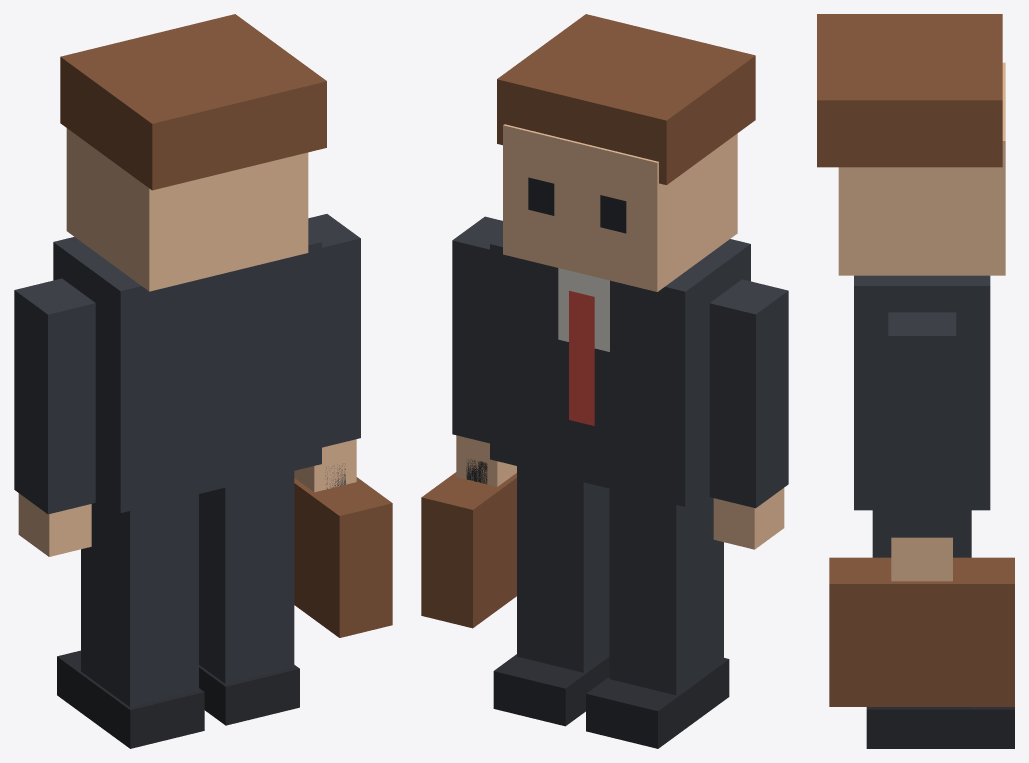
Rendered from H_Business.fbx.
3 renders of one model, left to right at view 1: azimuth 30°, elevation 25°; view 2: azimuth 150°, elevation 25°; view 3: azimuth 270°, elevation 25°, orthographic. The views are drawn at different scales.
Visible parts, largest first — view 1: H_Business; view 2: H_Business; view 3: H_Business.
Boxes of the visible parts, <box> form: H_Business: <box>14,14,392,748</box>; H_Business: <box>421,14,788,748</box>; H_Business: <box>817,14,1014,748</box>.
Size of the model in its own units: 0.595 by 1.16 by 0.32.
